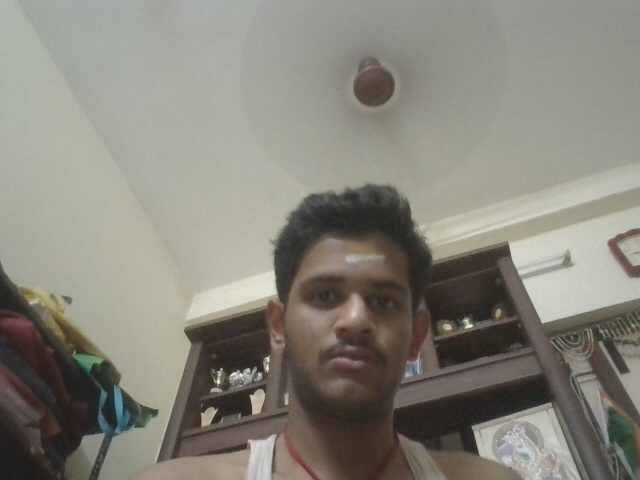real: (271, 229, 439, 397)
